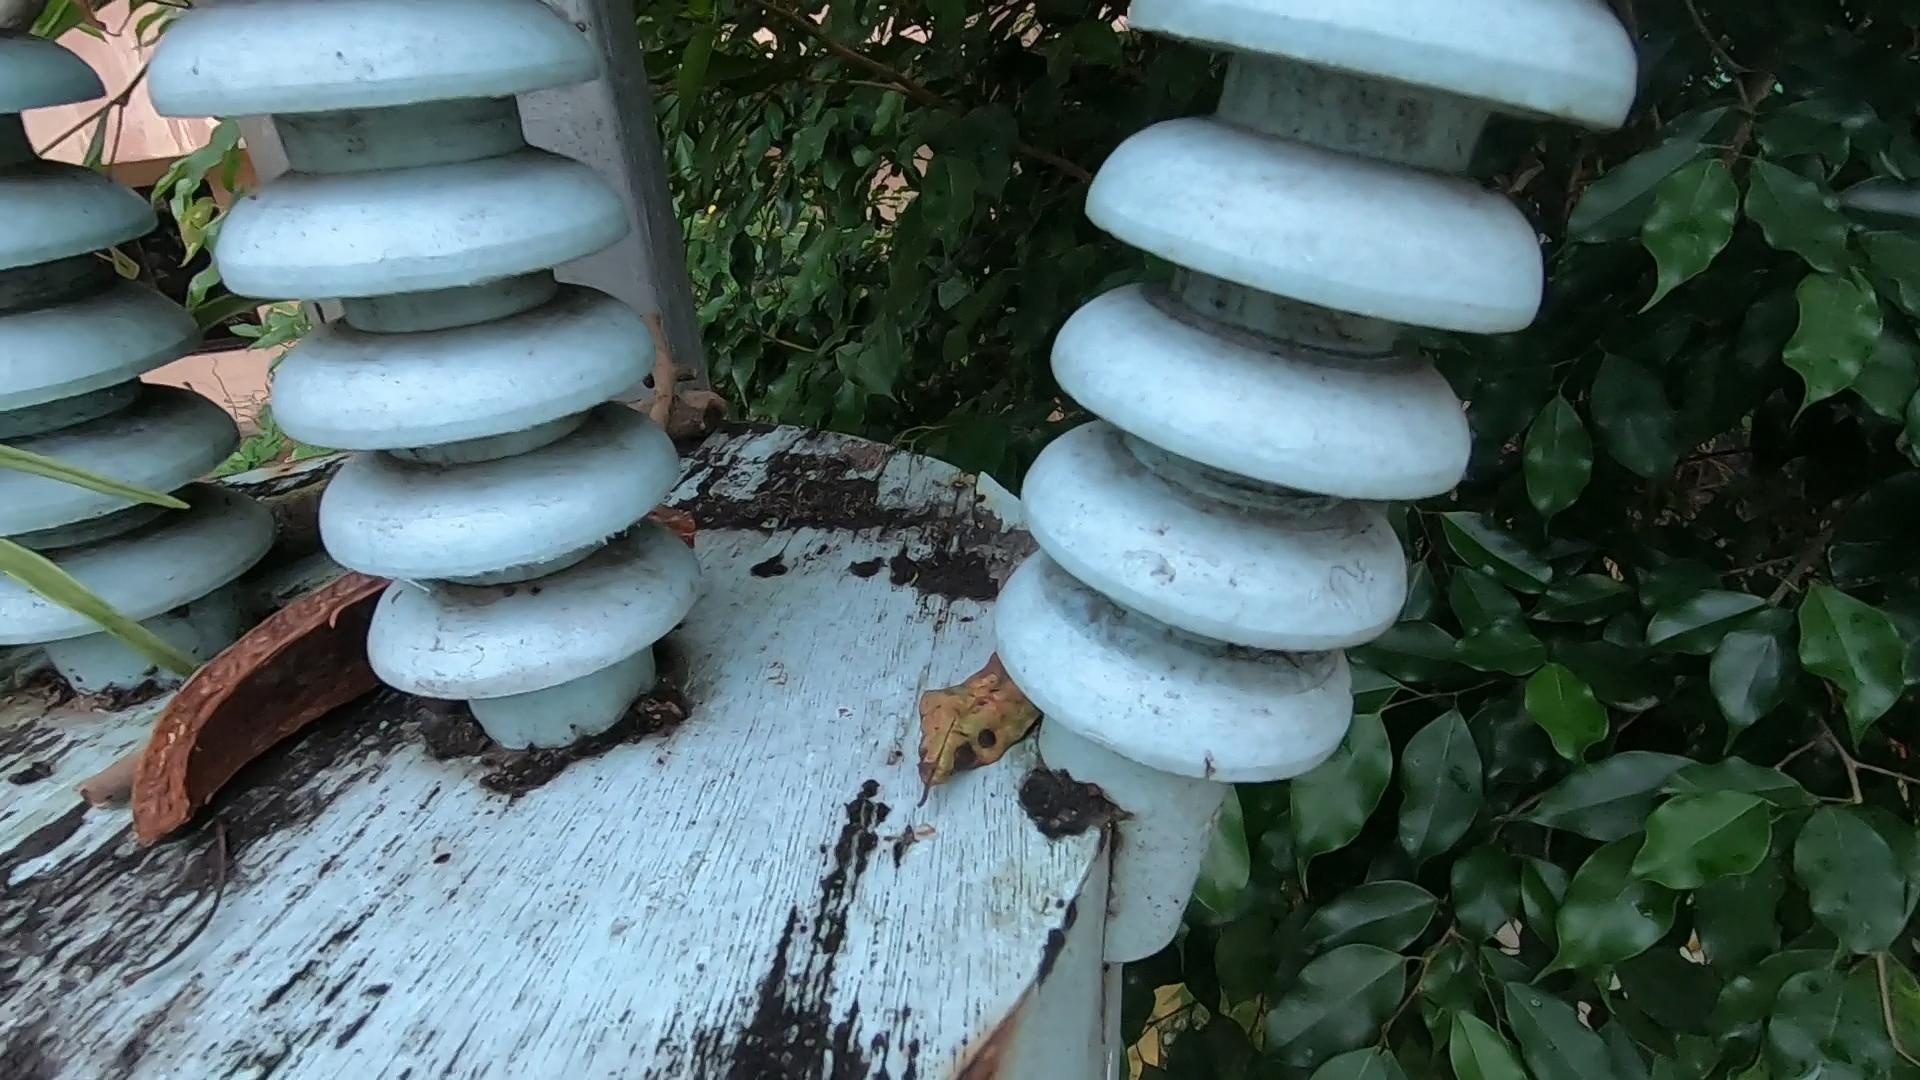leaf: (895, 613, 1069, 903)
mahogany fruit: (224, 549, 371, 865)
tree branch: (228, 398, 418, 613), (62, 699, 199, 832), (624, 309, 694, 491)
